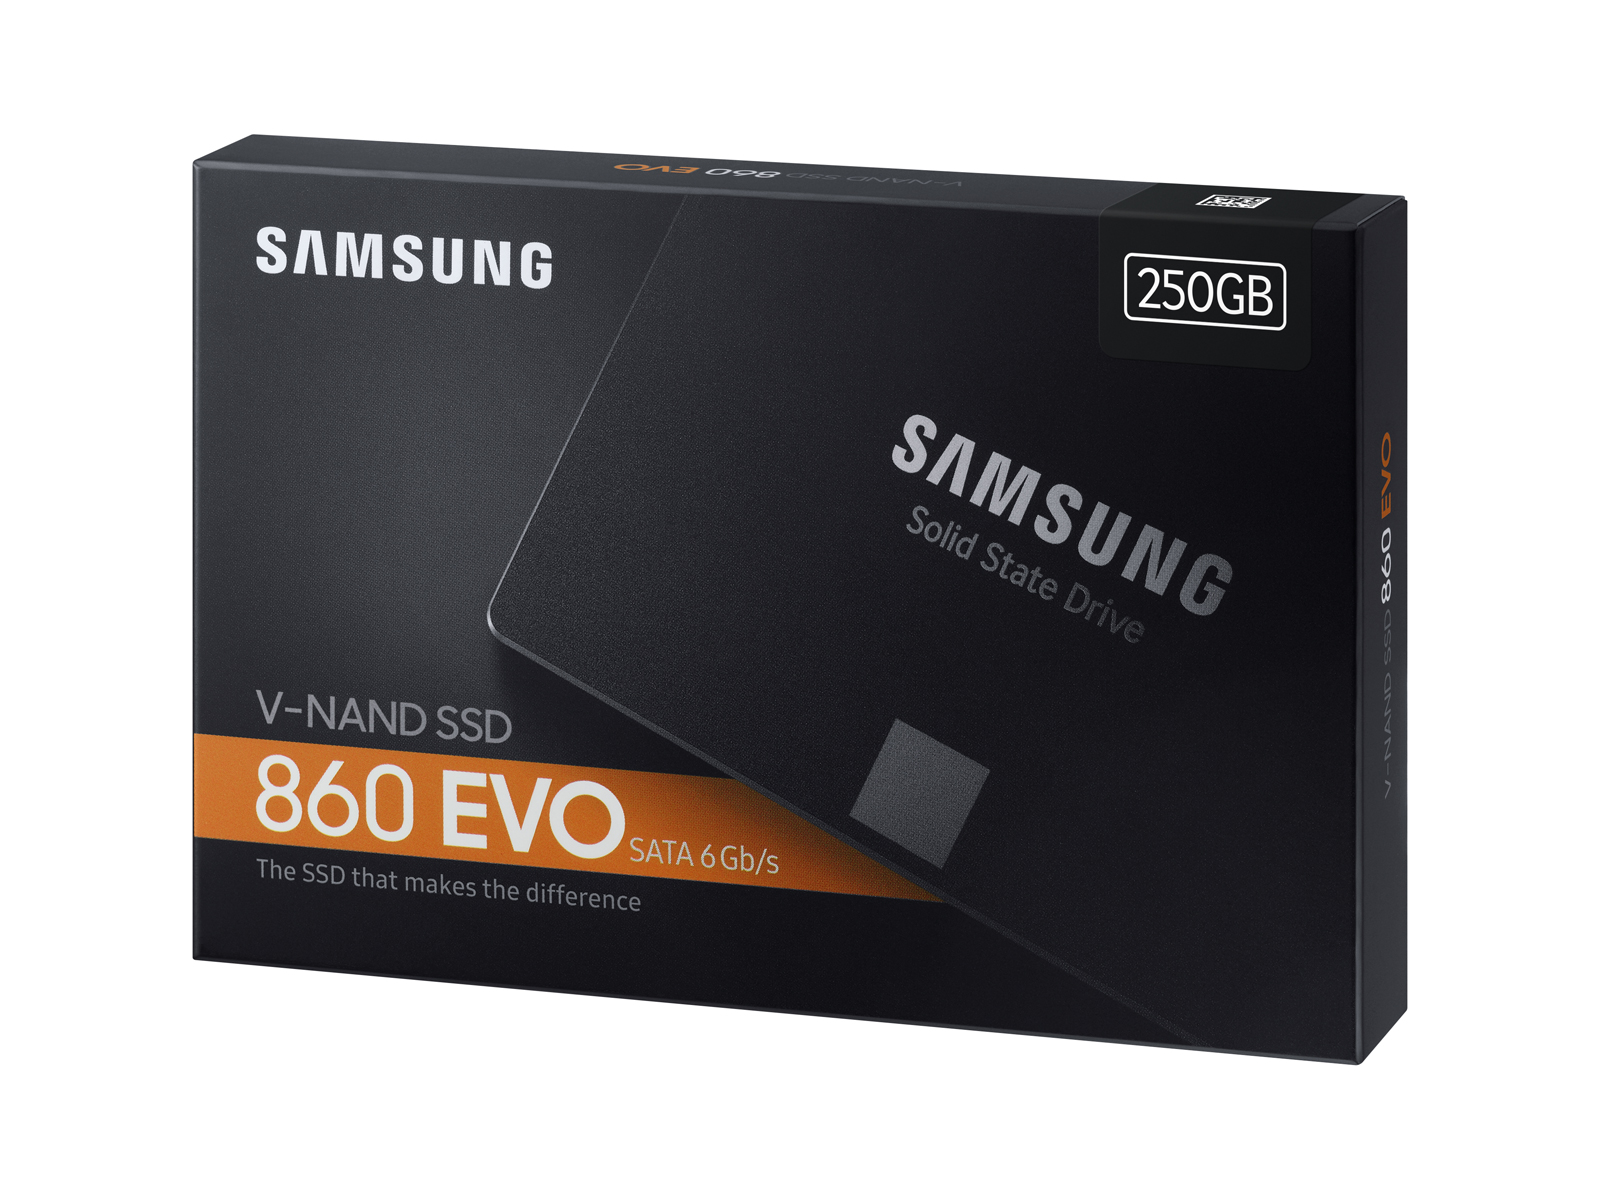samsung-hdd-240gb: (171, 192, 1420, 1037)
